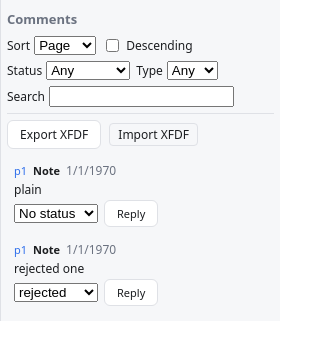
Scenario: CommentPane: filters (D-A11) › filters by status, including the untriaged case
Expected: the text "plain" is shown, [14,181,42,198]
Select "None" in the dropdown labelled "Status": coordinates (88, 70) [46,61,130,80]
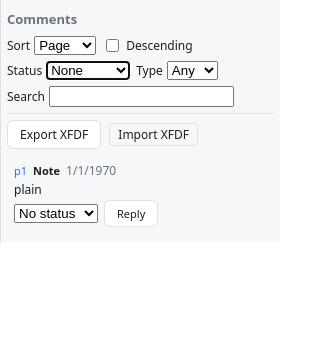
Expected: the text "plain" is shown, [14,181,42,198]
Now the text "rejected one" is gone
Select "rejected" in the dropdown labelled "Status": coordinates (88, 70) [46,61,130,80]
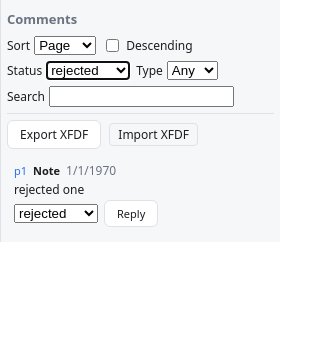
Now the text "plain" is gone
Now the text "rejected one" is shown, box [14,181,84,198]
